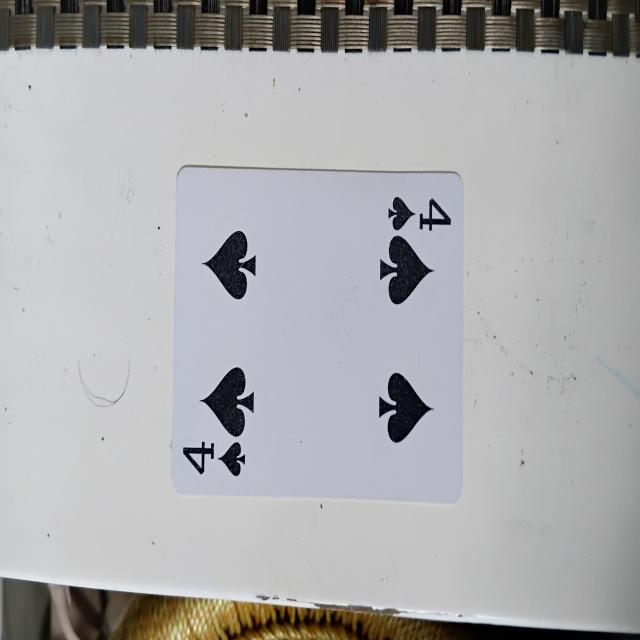4S: (175, 164, 466, 504)
